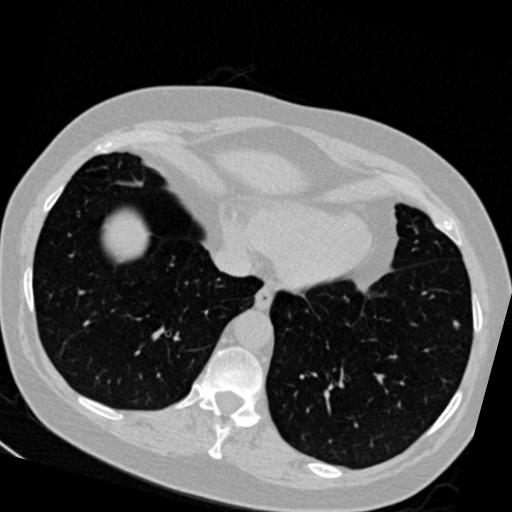nodule: (449, 315, 464, 330)
